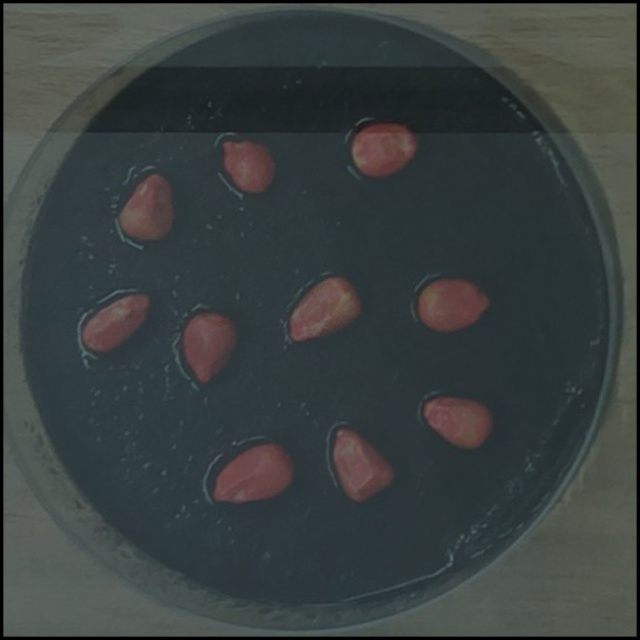Zea mays: (209, 436, 302, 509), (283, 270, 368, 349), (327, 421, 400, 508), (77, 285, 157, 358), (175, 305, 242, 389), (416, 390, 500, 455), (413, 272, 496, 337), (113, 168, 180, 248), (346, 116, 424, 183), (218, 132, 284, 201)
